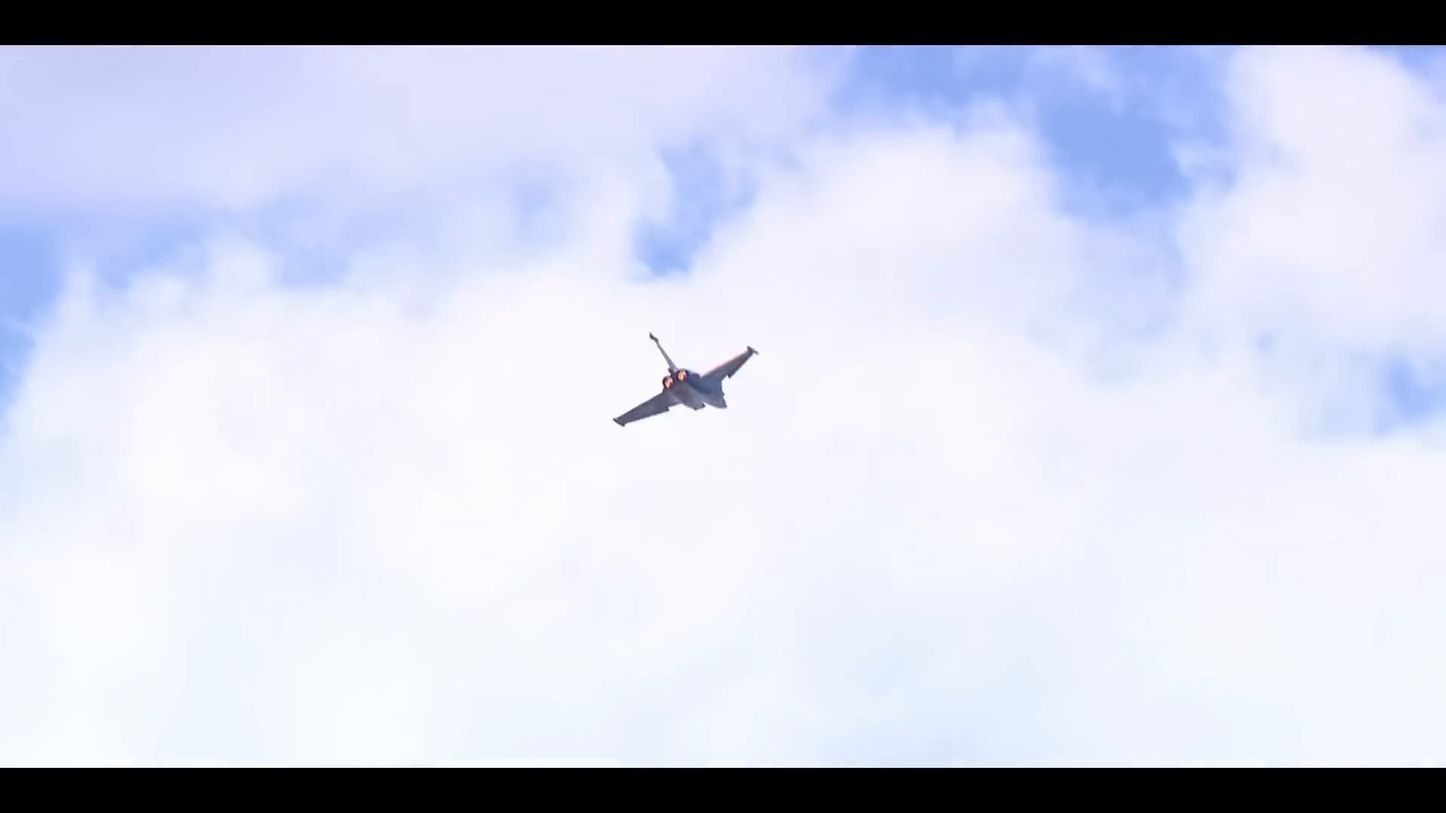Rafale: (613, 331, 758, 426)
